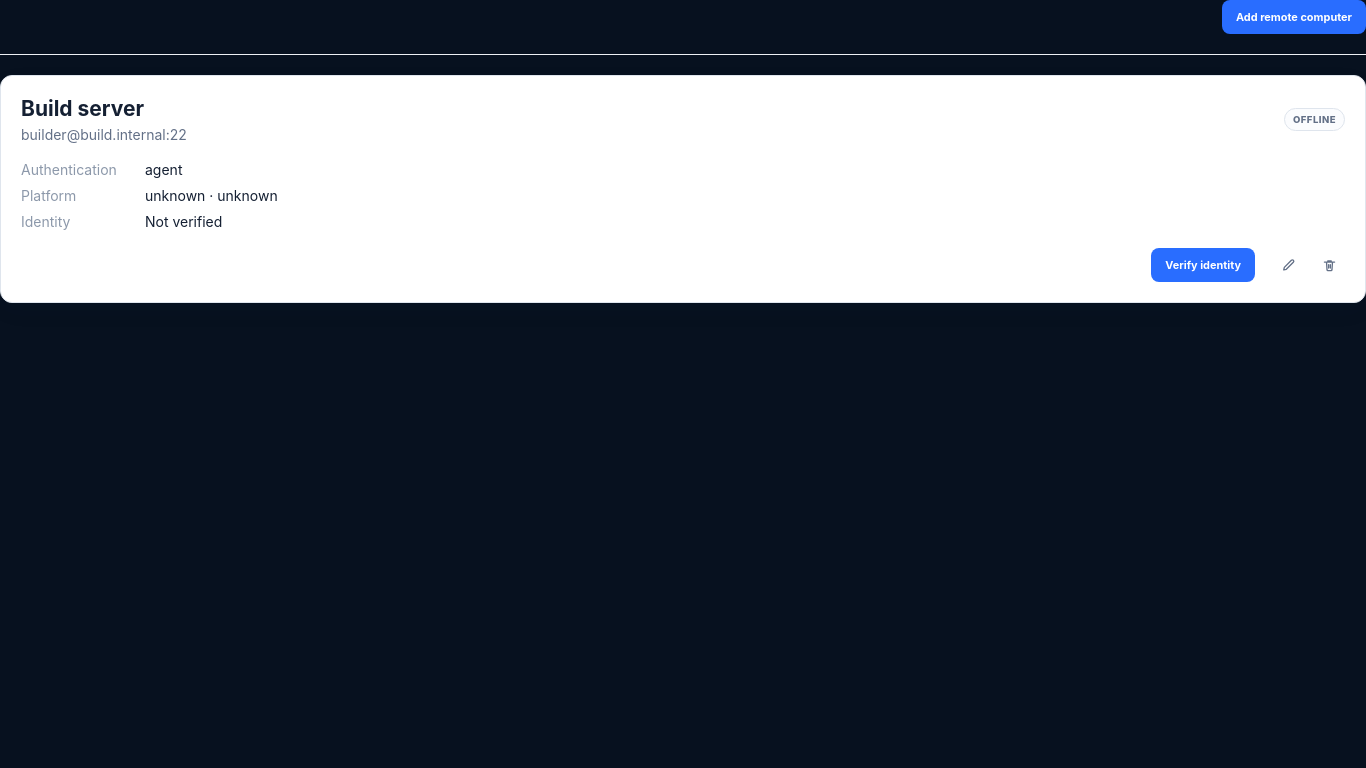
RemoteTargetsView › reports an invalid port without invoking profile update
Click the button named "Edit Build server".
click(1288, 265)  # box [1272, 249, 1304, 281]
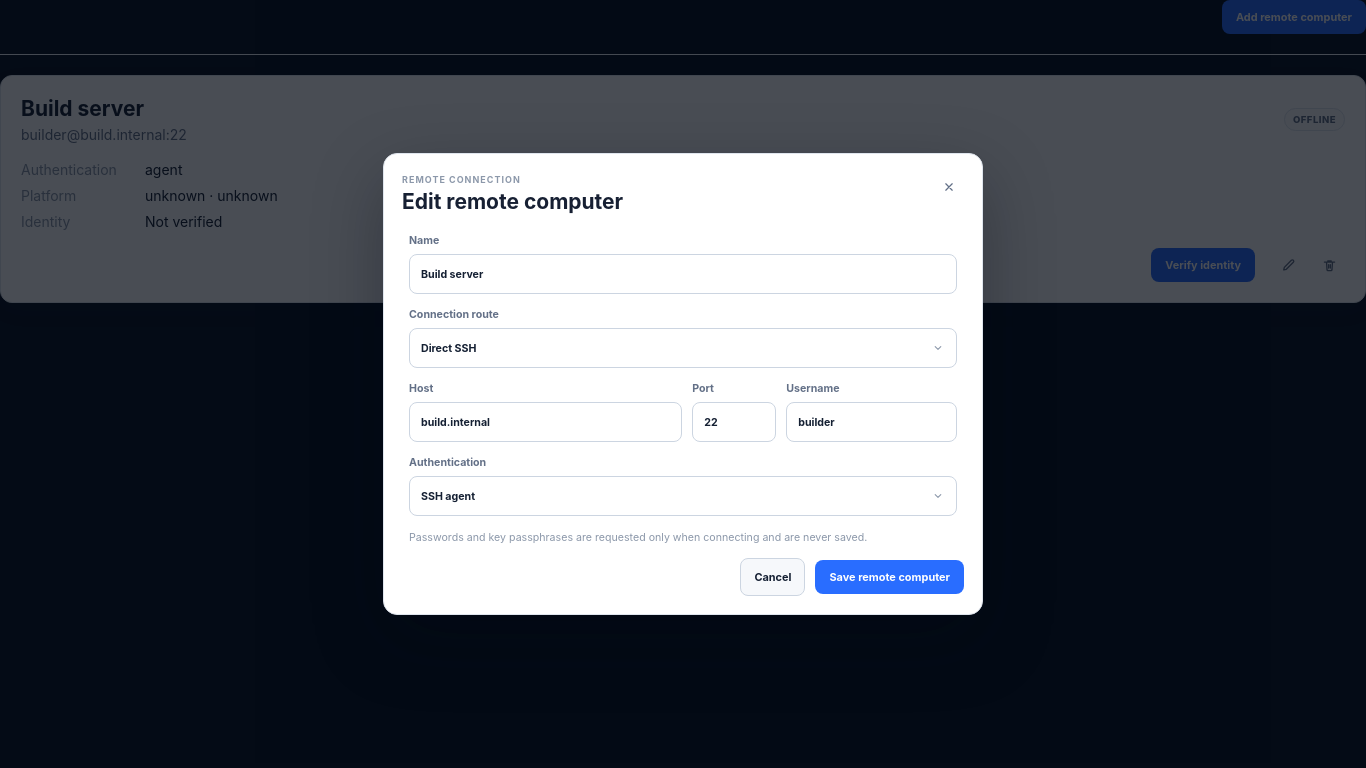
Replace the text in the field labelled "Port" with "0" at (734, 422), box [692, 402, 776, 442]
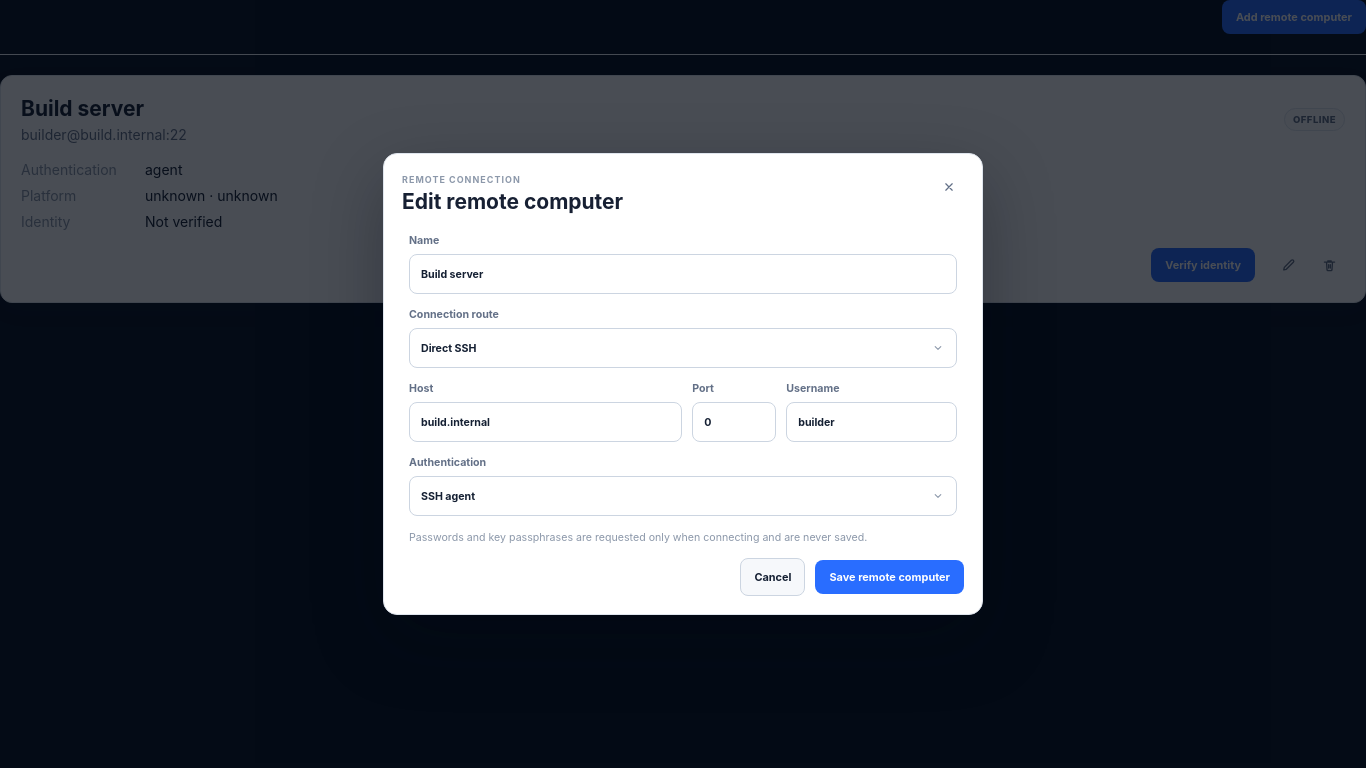
Click the button "Save remote computer".
click(890, 577)  # box [816, 560, 964, 594]
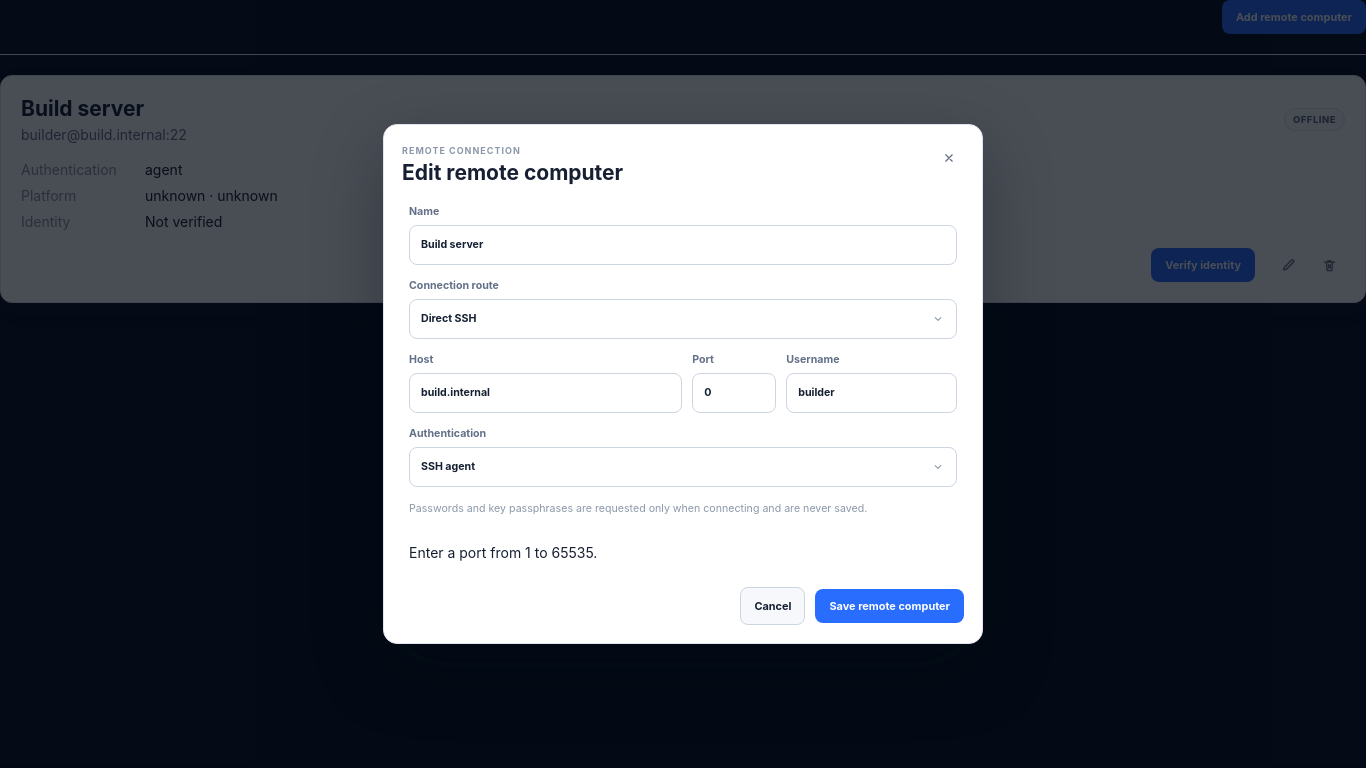
Result: the text "Enter a port from 1 to 65535." is shown at [409, 544, 597, 562]
